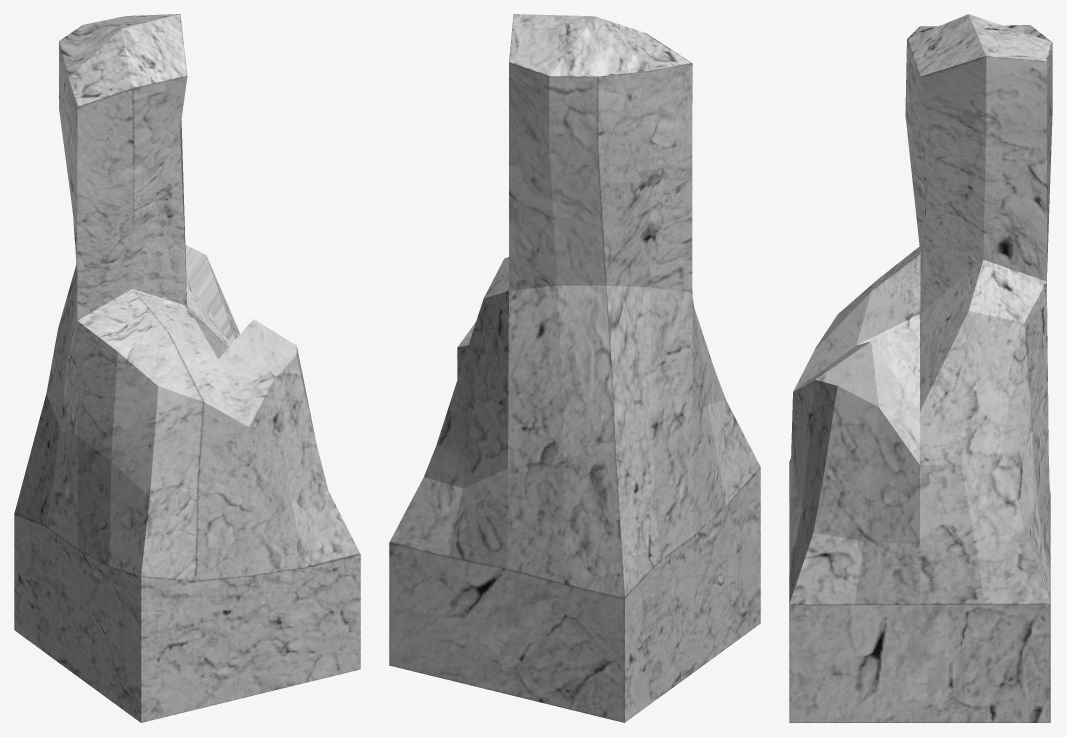
Rendered from col5.fbx.
3 renders of one model, left to right at view 1: azimuth 30°, elevation 25°; view 2: azimuth 150°, elevation 25°; view 3: azimuth 270°, elevation 25°, orthographic. The views are drawn at different scales.
Parts seen in each view (by area): view 1: pCube1; view 2: pCube1; view 3: pCube1.
Boxes of the visible parts, x1,y1,x2,y2 form: pCube1: [14, 14, 360, 722]; pCube1: [389, 14, 760, 722]; pCube1: [789, 14, 1052, 722].
Size of the model in its own units: 37.35 by 99.79 by 37.66.
1 material, 1 textured.
